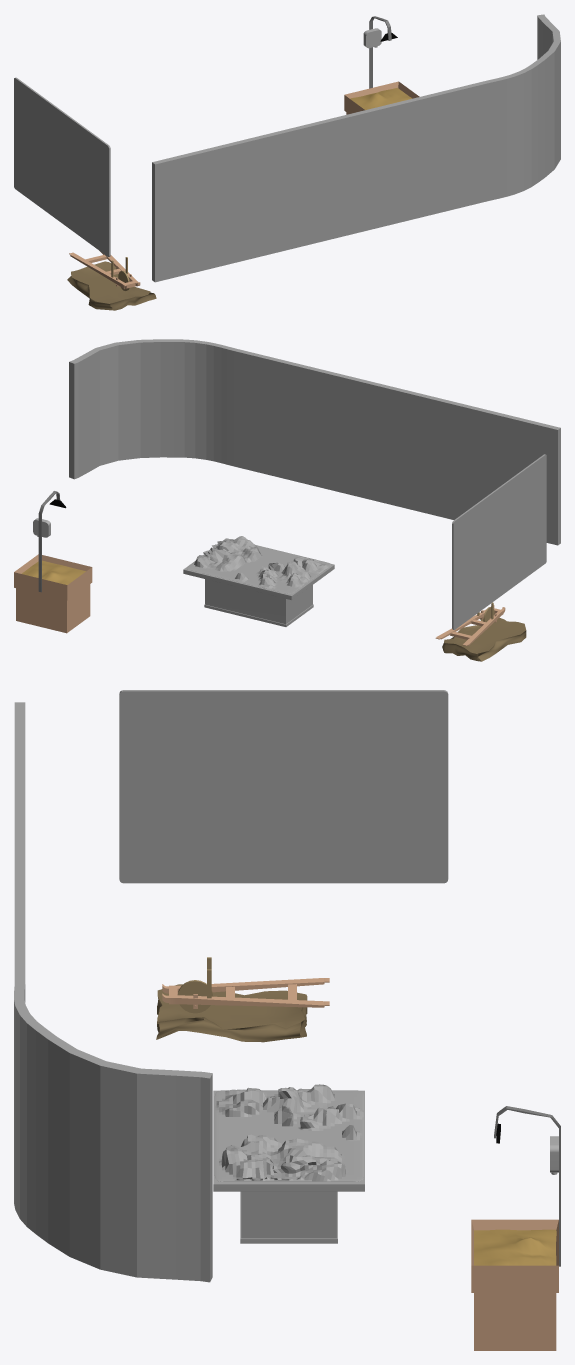
Rendered from ruangan5_gabungan.fbx.
The picture shows the model from 3 angles, top to bottom: view 1: azimuth 30°, elevation 25°; view 2: azimuth 150°, elevation 25°; view 3: azimuth 270°, elevation 25°; orthographic projection. The views are drawn at different scales.
Visible parts, largest first — view 1: LINTASSEJARAHTIMAHINDONESIA_RUANGAN5, SARANADARIMASAKEMASA_RUANGAN5, pCube269, INFOCUS_AR_RUANGAN5, gerobakjamandulu_ruangan5; view 2: LINTASSEJARAHTIMAHINDONESIA_RUANGAN5, SARANADARIMASAKEMASA_RUANGAN5, INFOCUS_AR_RUANGAN5, PETAGEOLOGI_RUANGAN5, pCube257, pCube269, gerobakjamandulu_ruangan5; view 3: SARANADARIMASAKEMASA_RUANGAN5, LINTASSEJARAHTIMAHINDONESIA_RUANGAN5, PETAGEOLOGI_RUANGAN5, INFOCUS_AR_RUANGAN5, pCube257, pCube269, gerobakjamandulu_ruangan5.
Boxes of the visible parts, x1,y1,x2,y2 form: LINTASSEJARAHTIMAHINDONESIA_RUANGAN5: (152, 14, 560, 282); SARANADARIMASAKEMASA_RUANGAN5: (14, 77, 110, 256); pCube269: (67, 261, 156, 310); INFOCUS_AR_RUANGAN5: (344, 16, 419, 114); gerobakjamandulu_ruangan5: (69, 251, 140, 290); LINTASSEJARAHTIMAHINDONESIA_RUANGAN5: (69, 339, 560, 545); SARANADARIMASAKEMASA_RUANGAN5: (452, 454, 546, 629); INFOCUS_AR_RUANGAN5: (14, 491, 92, 633); PETAGEOLOGI_RUANGAN5: (186, 536, 331, 593); pCube257: (183, 538, 334, 626); pCube269: (442, 617, 526, 661); gerobakjamandulu_ruangan5: (435, 602, 505, 645); SARANADARIMASAKEMASA_RUANGAN5: (119, 690, 448, 883); LINTASSEJARAHTIMAHINDONESIA_RUANGAN5: (14, 702, 212, 1282); PETAGEOLOGI_RUANGAN5: (214, 1084, 363, 1181); INFOCUS_AR_RUANGAN5: (471, 1106, 560, 1350); pCube257: (213, 1090, 364, 1243); pCube269: (156, 984, 307, 1042); gerobakjamandulu_ruangan5: (162, 957, 329, 1013).
Size of the model in its own units: 14.54 by 5.45 by 8.63.
